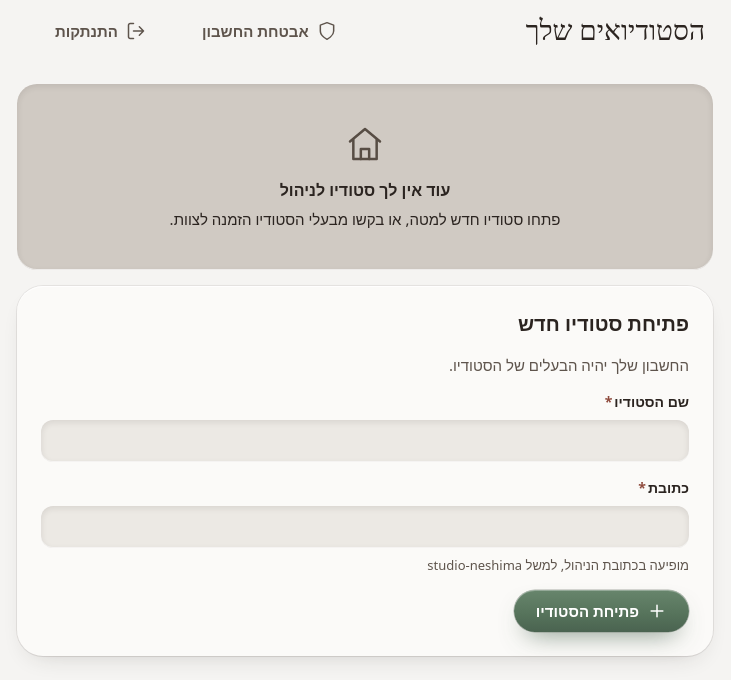
Test: choosing a studio › checks the address before sending and shows a taken address on the field
Type "סטודיו" into the field labelled "שם הסטודיו*".
click(365, 441); type("סטודיו")  # box left=41, top=420, right=689, bottom=462
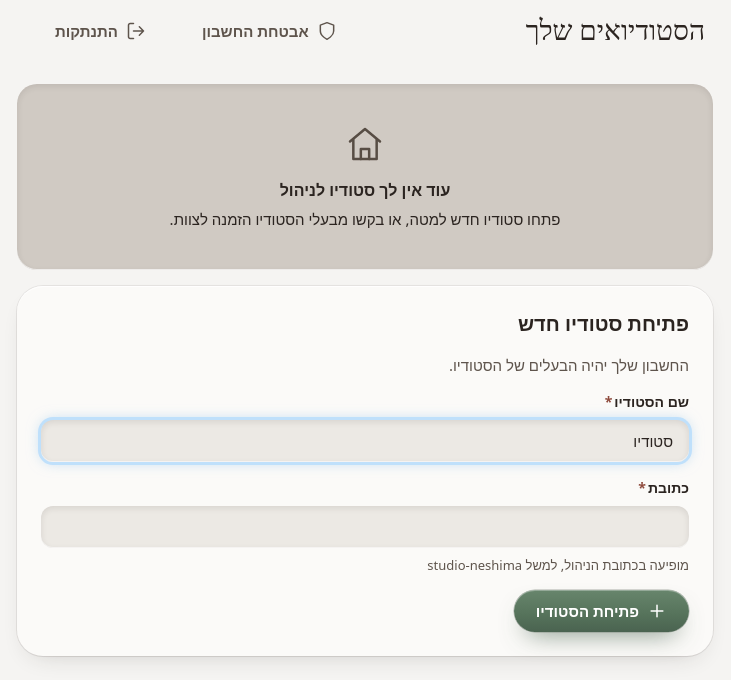
Type "a-" into the field labelled "כתובת*".
click(365, 527); type("a-")  # box left=41, top=506, right=689, bottom=548
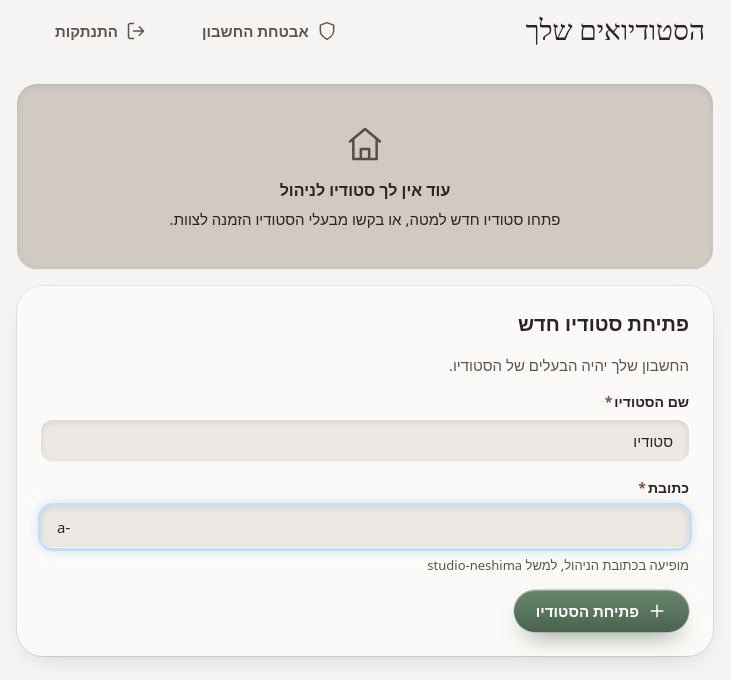
Click the button "פתיחת הסטודיו".
click(601, 611)  # box left=514, top=590, right=689, bottom=632
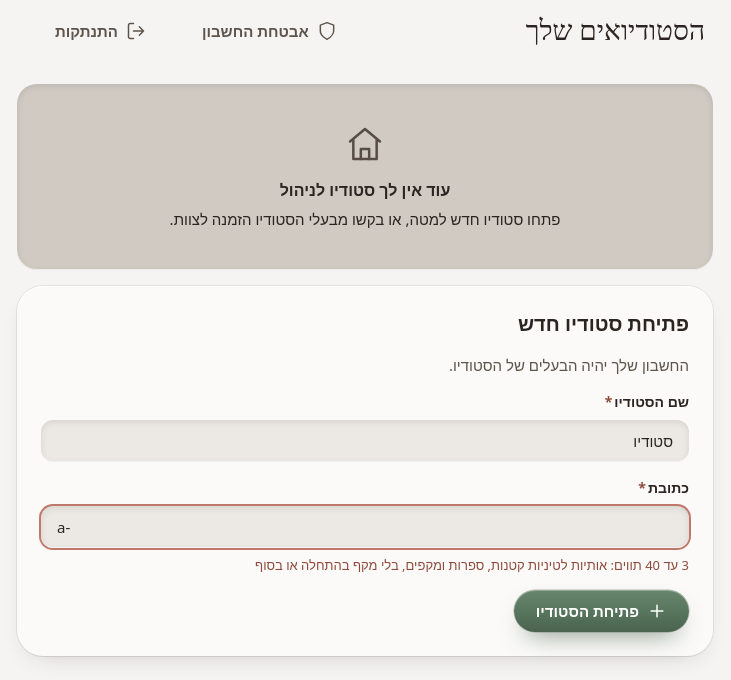
Check: the text "3 עד 40 תווים" is shown, box left=255, top=556, right=689, bottom=574
Type "b" into the field labelled "כתובת*".
click(365, 527); type("b")  # box left=41, top=506, right=689, bottom=548
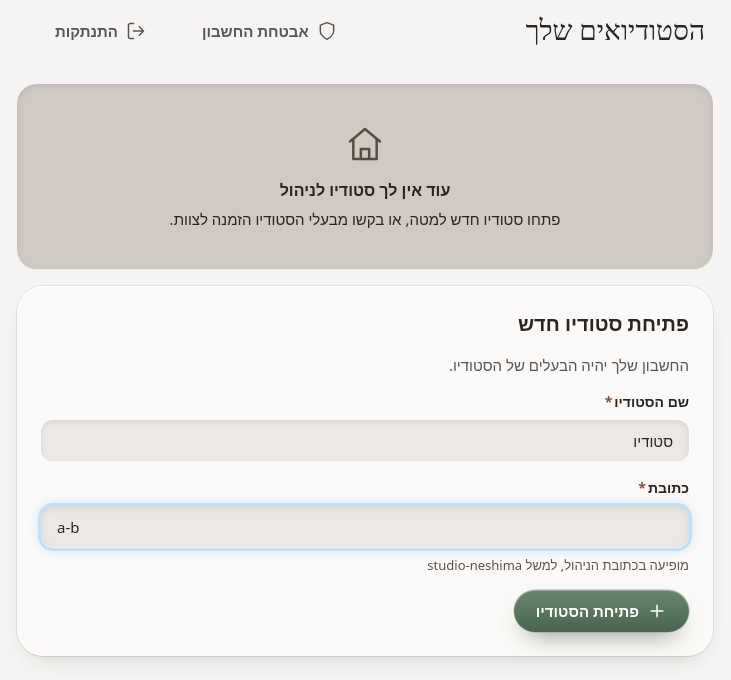
Click the button "פתיחת הסטודיו".
click(601, 611)  # box left=514, top=590, right=689, bottom=632
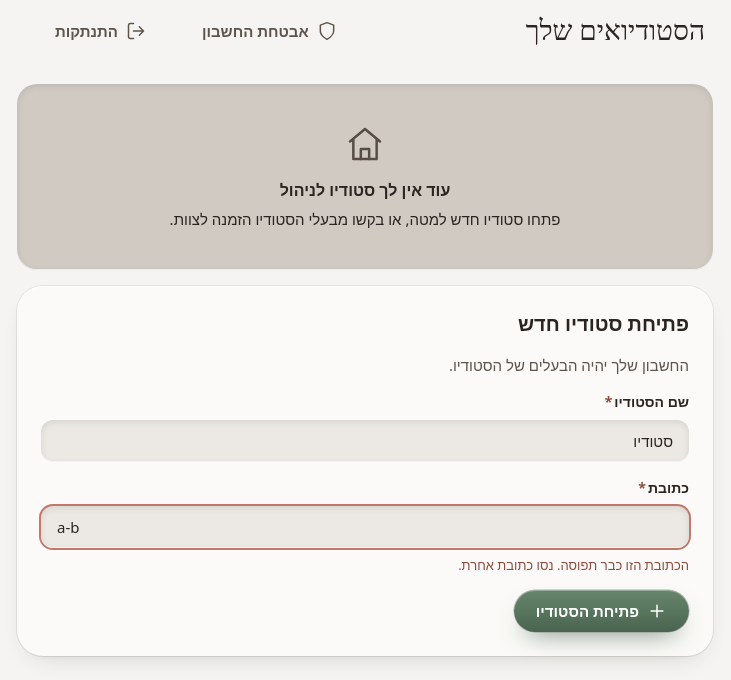
Check: the text "הכתובת הזו כבר תפוסה. נסו כתובת אחרת." is shown, box left=458, top=556, right=689, bottom=574
